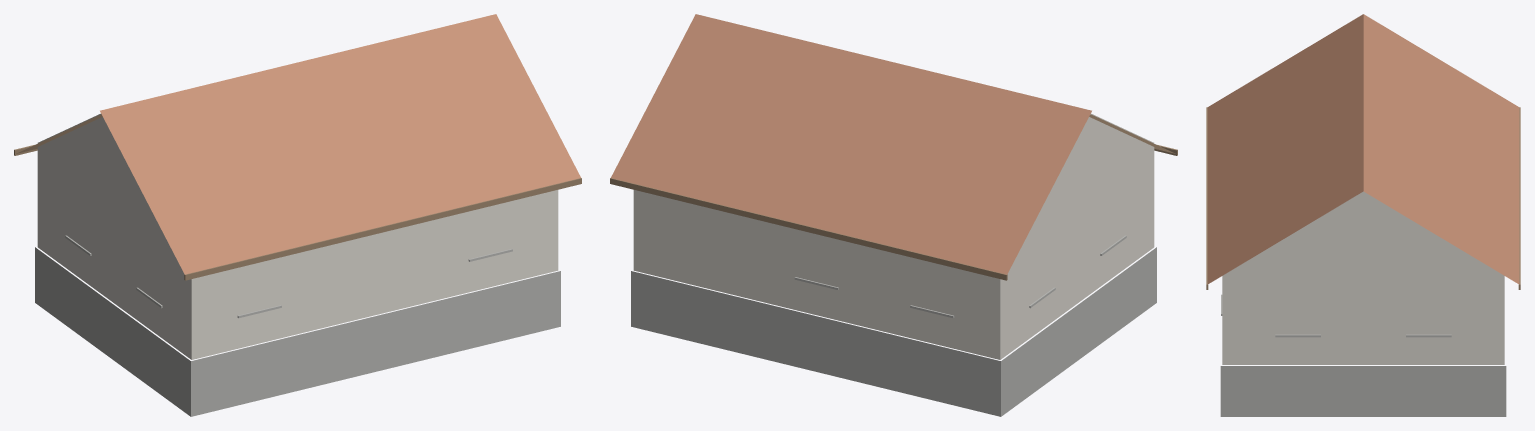
The model's file is farmhouse.glb.
3 renders of one model, left to right at view 1: azimuth 30°, elevation 25°; view 2: azimuth 150°, elevation 25°; view 3: azimuth 270°, elevation 25°, orthographic. The views are drawn at different scales.
Visible parts, largest first — view 1: hi, far; view 2: hi, far; view 3: hi, far.
Boxes of the visible parts, x1=… form: hi: x1=14, y1=14, x2=581, y2=416; far: x1=37, y1=149, x2=558, y2=359; hi: x1=610, y1=14, x2=1177, y2=416; far: x1=633, y1=143, x2=1154, y2=359; hi: x1=1206, y1=14, x2=1520, y2=416; far: x1=1222, y1=269, x2=1504, y2=364.
Bounding box in the file's own units: 11.9 × 7.24 × 8.9.
